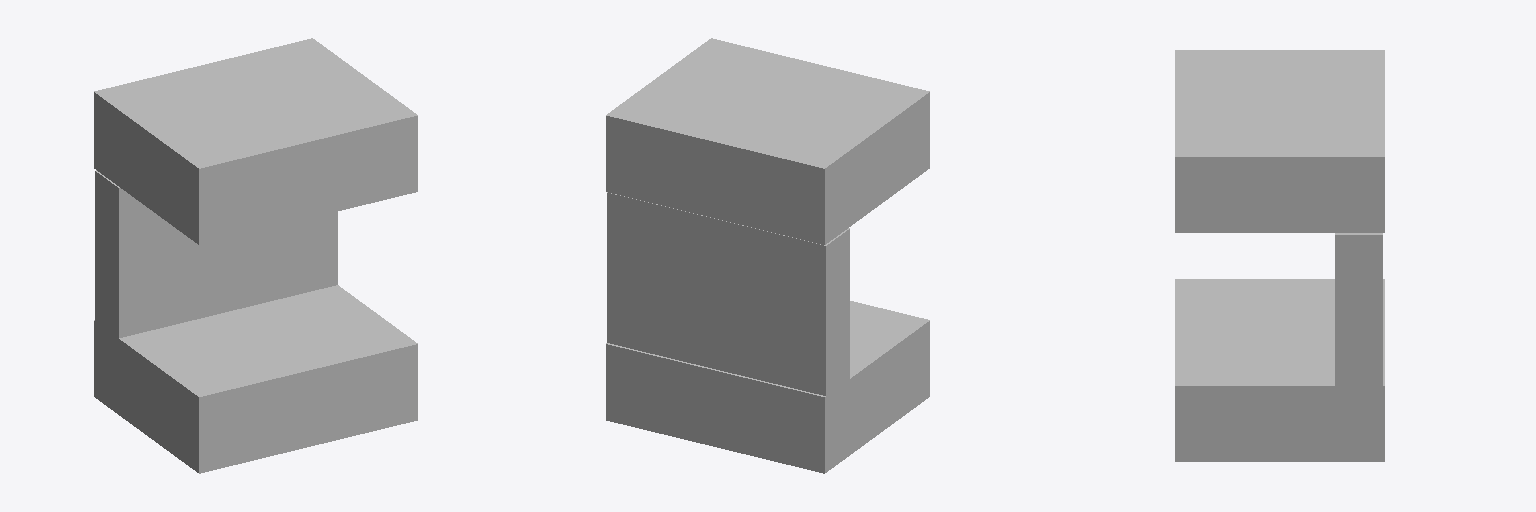
The model's file is sodaMachine.obj.
3 views of the same model, side by side, from view 1: azimuth 30°, elevation 25°; view 2: azimuth 150°, elevation 25°; view 3: azimuth 270°, elevation 25° (orthographic).
Visible parts, largest first — view 1: SodaMachine; view 2: SodaMachine; view 3: SodaMachine.
Part boxes in pixels (bbox=[...]): SodaMachine: bbox=[94, 38, 417, 473]; SodaMachine: bbox=[606, 38, 929, 473]; SodaMachine: bbox=[1175, 50, 1384, 461].
Bounding box in the file's own units: 0.6 × 0.7976 × 0.5.